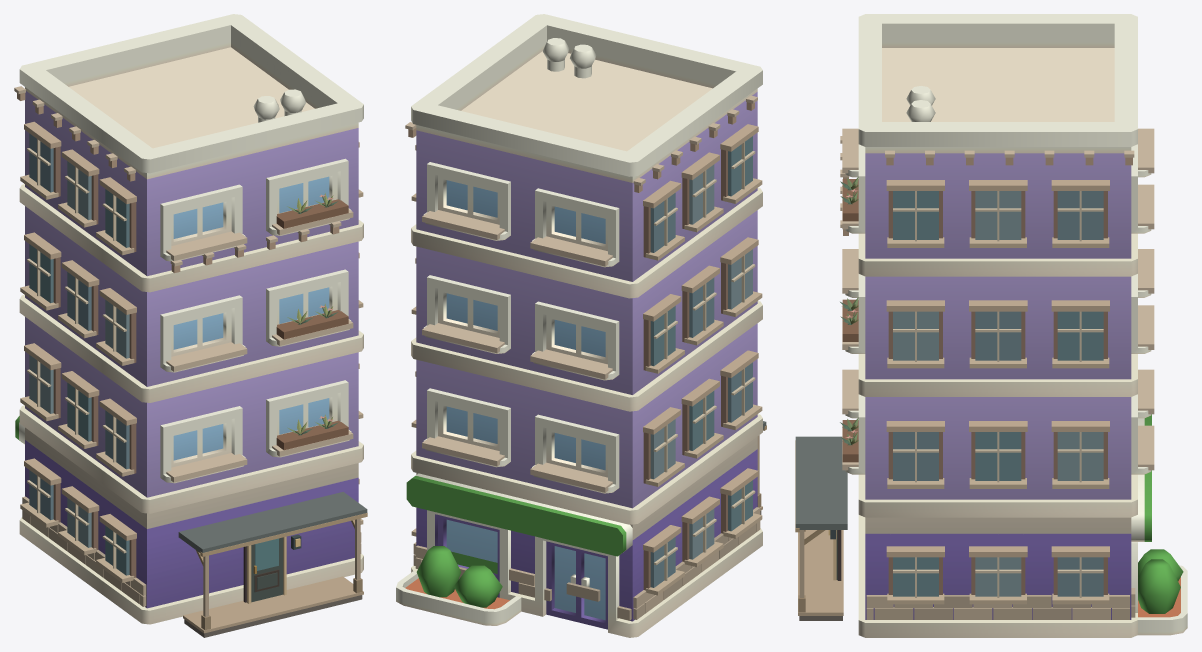
File: shop-f-lavender.glb
3 renders of one model, left to right at view 1: azimuth 30°, elevation 25°; view 2: azimuth 150°, elevation 25°; view 3: azimuth 270°, elevation 25°, orthographic. The views are drawn at different scales.
Visible parts, largest first — view 1: building-f, Masonry_and_stairwell_windows, Residential_Portico, Upper_floor_balconies_and_carved_cornice; view 2: building-f, Masonry_and_stairwell_windows, Upper_floor_balconies_and_carved_cornice; view 3: building-f, Masonry_and_stairwell_windows, Upper_floor_balconies_and_carved_cornice, Residential_Portico.
Boxes of the visible parts, left/top/right/bottom form: building-f: left=15, top=14, right=363, bottom=624; Masonry_and_stairwell_windows: left=20, top=121, right=363, bottom=606; Residential_Portico: left=178, top=492, right=367, bottom=637; Upper_floor_balconies_and_carved_cornice: left=14, top=86, right=353, bottom=482; building-f: left=396, top=14, right=762, bottom=637; Masonry_and_stairwell_windows: left=411, top=124, right=762, bottom=620; Upper_floor_balconies_and_carved_cornice: left=405, top=95, right=757, bottom=492; building-f: left=845, top=14, right=1187, bottom=637; Masonry_and_stairwell_windows: left=866, top=180, right=1135, bottom=619; Upper_floor_balconies_and_carved_cornice: left=840, top=128, right=1154, bottom=470; Residential_Portico: left=795, top=436, right=847, bottom=620.
Size of the model in its own units: 0.912 by 1.69 by 1.18.
35 materials, 1 textured.
